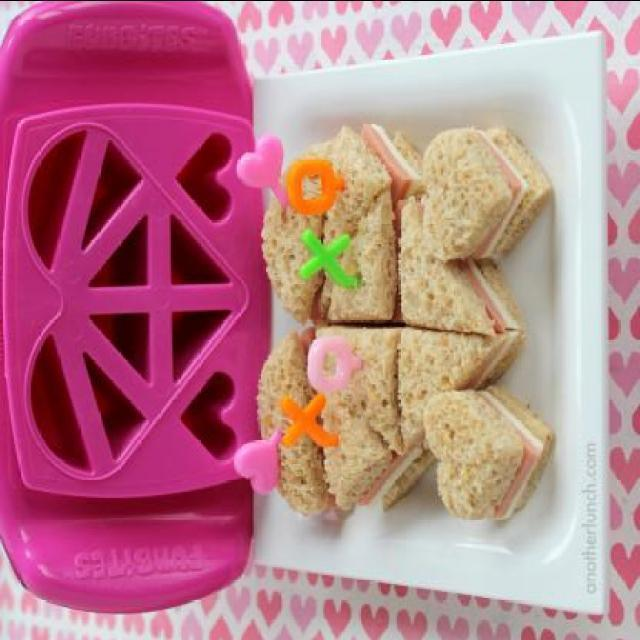Sandwich: (255, 119, 557, 522)
